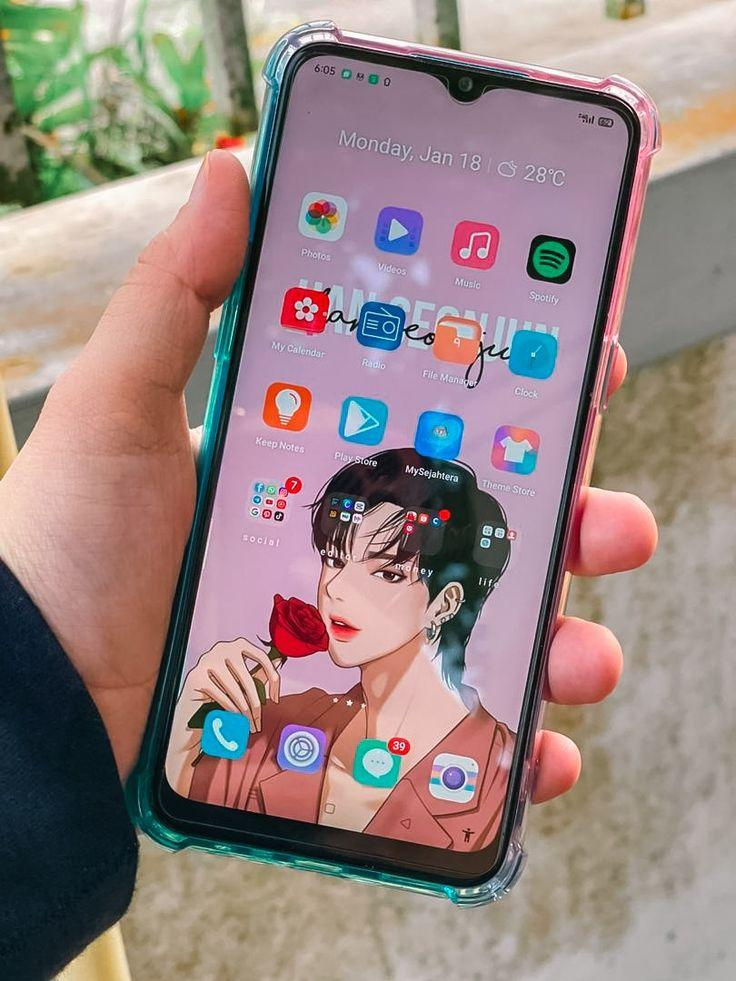Phone: (108, 15, 676, 933)
